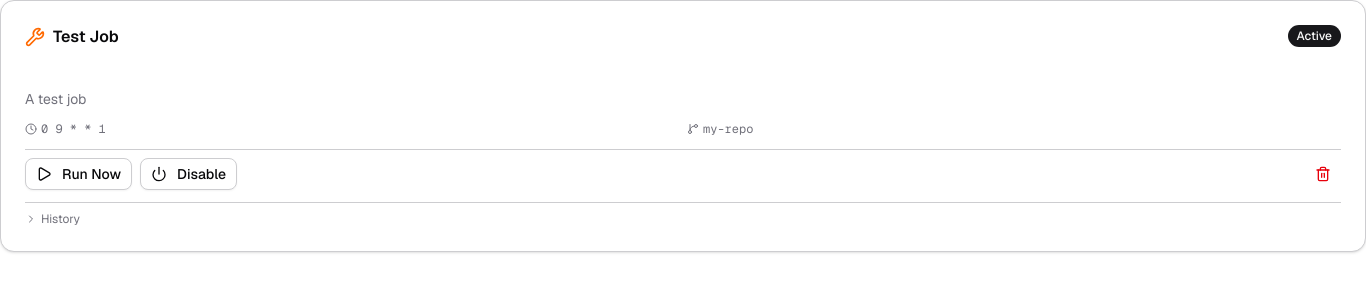
Test: job-card.tsx branch coverage › line 203: toggles history panel open/close
This screenshot has width=1366, height=294.
Click the button "History": click(60, 219) x1=25 y1=211 x2=1341 y2=227
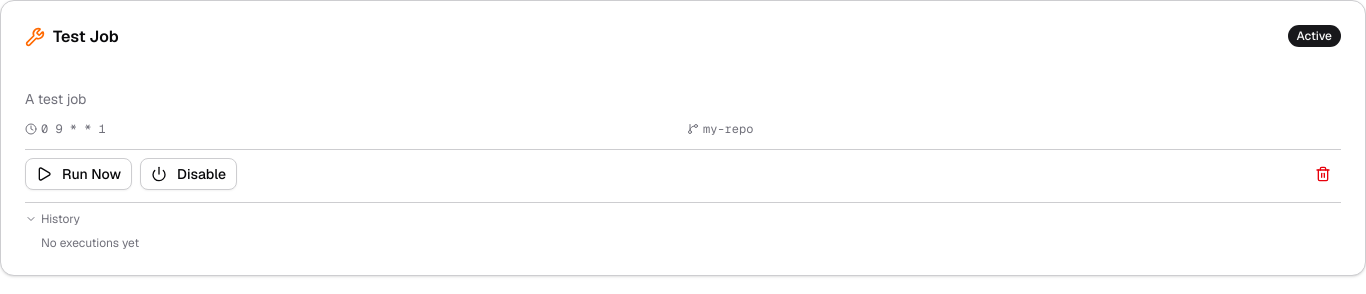
Expected: the text "No executions yet" is shown, x1=41 y1=235 x2=139 y2=251
Click the button "History": click(60, 219) x1=25 y1=211 x2=1341 y2=227
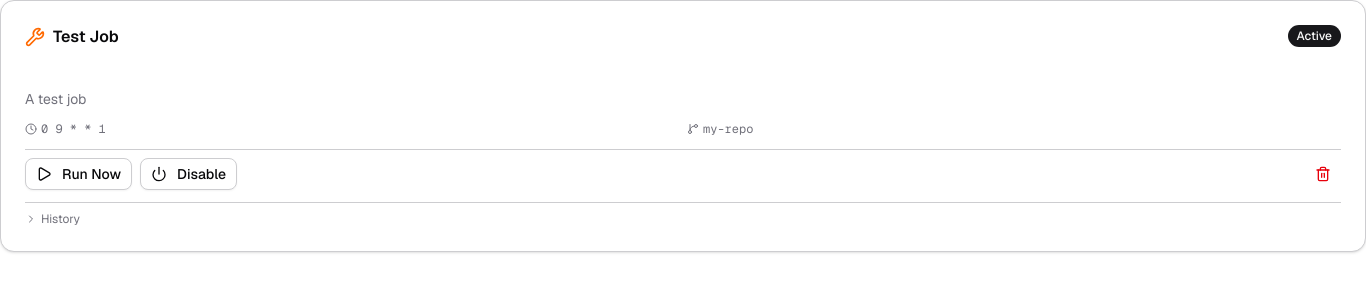
Expected: the text "No executions yet" is gone
